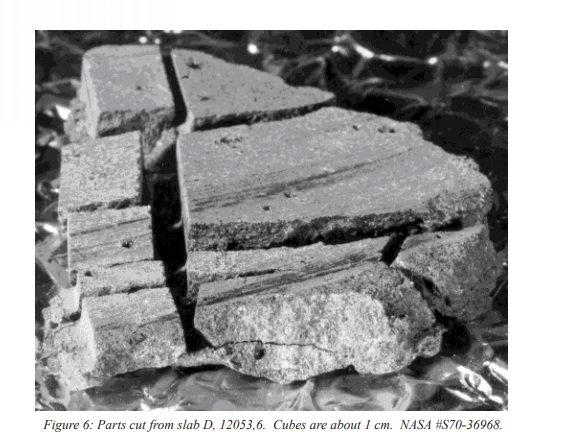Basalt: (187, 250, 427, 373), (56, 144, 184, 368), (167, 128, 492, 216), (165, 43, 342, 107), (67, 36, 176, 124)
